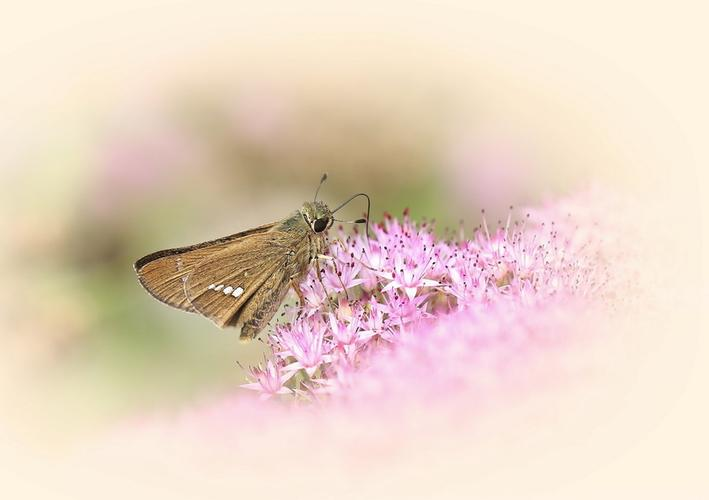Hesperiidae: (125, 170, 387, 345)
